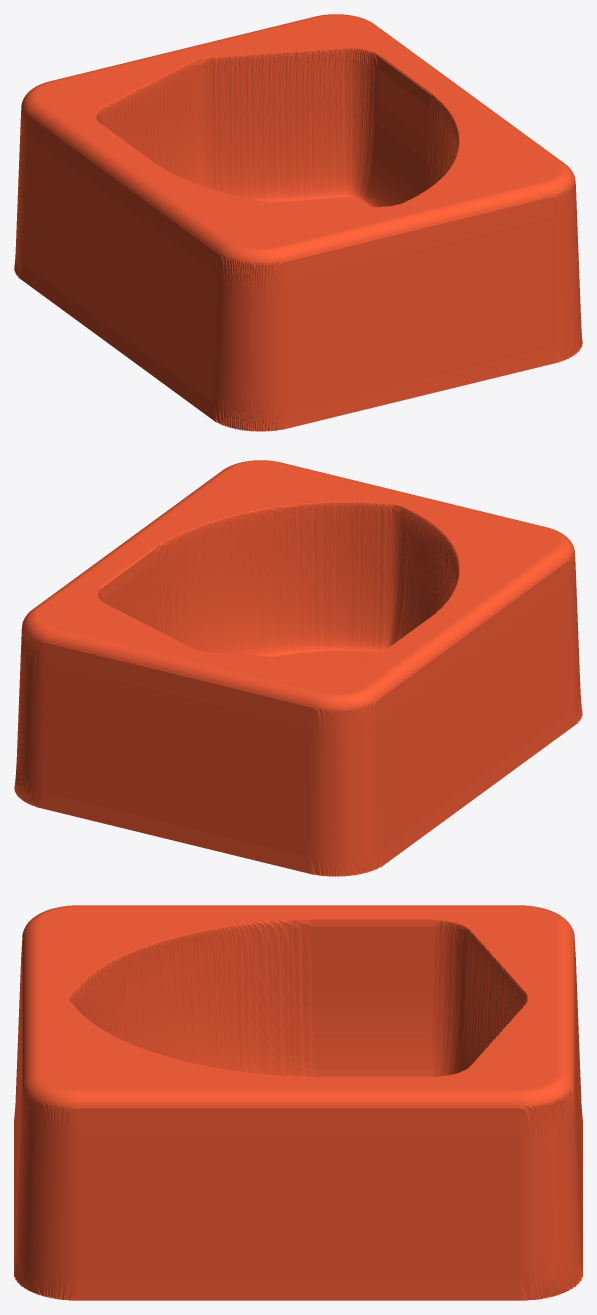
The model's file is mold.glb.
3 renders of one model, top to bottom at view 1: azimuth 30°, elevation 25°; view 2: azimuth 150°, elevation 25°; view 3: azimuth 270°, elevation 25°, orthographic. The views are drawn at different scales.
Visible parts, largest first — view 1: geometry_0; view 2: geometry_0; view 3: geometry_0.
Part boxes in pixels (left/top/right/bottom): geometry_0: left=14, top=14, right=582, bottom=431; geometry_0: left=14, top=460, right=582, bottom=876; geometry_0: left=14, top=905, right=582, bottom=1300.
Bounding box in the file's own units: 0.0678 × 0.031 × 0.0798.
